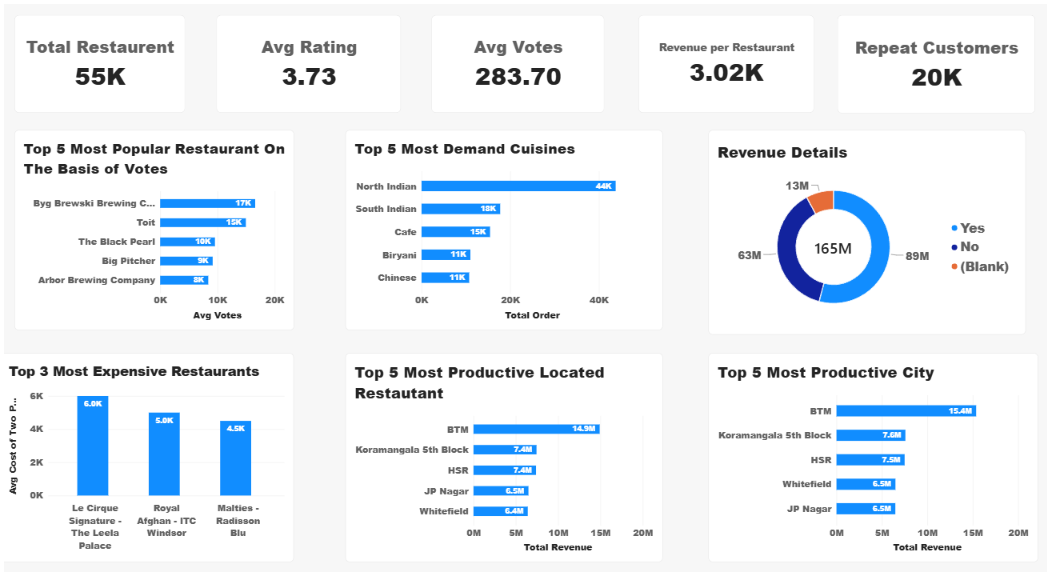

What the dashboard file says about the page in this screenshot:
{"tool":"powerbi","page":{"name":"Restaurants Analysis Dashboard","canvas":[1920,1080],"ordinal":1},"visuals":[{"type":"clusteredColumnChart","title":"Top 3 Most Expensive Restaurants","fields":{"Category":["Restaurants.name"],"Y":["Restaurants.Avg Cost of Two People"]},"box":[2.1,660.7,533.1,378.7],"z":1},{"type":"cardVisual","fields":{"Data":["Orders.Total Restaurent"]},"box":[29,48.9,309.5,177.3],"z":2},{"type":"cardVisual","fields":{"Data":["Customers.Avg Rating"]},"box":[394.5,48.9,334.8,177.3],"z":3},{"type":"cardVisual","fields":{"Data":["Customers.Avg Votes"]},"box":[783.6,48.9,313.1,177.3],"z":4},{"type":"cardVisual","fields":{"Data":["Customers.Revenue per Restaurant"]},"box":[1158.2,48.9,318.5,177.3],"z":5},{"type":"clusteredBarChart","title":"Top 5 Most Demand Cuisines","fields":{"Category":["Restaurants.primary Cuisines"],"Y":["CountNonNull(Orders.OrderID)"]},"box":[627.8,257.3,574.3,362.3],"z":7},{"type":"donutChart","title":"Revenue Details","fields":{"Category":["Restaurants.Online Order"],"Y":["Orders.Total Revenue"]},"box":[1284.4,257.3,574.3,370.5],"z":8},{"type":"barChart","title":"Top 5 Most Productive Located Restautant","fields":{"Category":["Restaurants.location"],"Y":["Orders.Total Revenue"]},"box":[627.8,660.7,574.3,378.7],"z":9},{"type":"clusteredBarChart","title":"Top 5 Most Productive City","fields":{"Category":["Customers.City"],"Y":["Orders.Total Revenue"]},"box":[1284.4,660.7,596.9,378.7],"z":10},{"type":"cardVisual","fields":{"Data":["Customers.Repeat Customers"]},"box":[1518.3,48.9,358,178],"z":11},{"type":"clusteredBarChart","title":"Top 5 Most Popular Restaurant On The Basis of Votes","fields":{"Category":["Restaurants.name"],"Y":["Customers.Avg Votes"]},"box":[28.8,257.3,506.3,362.3],"z":12}]}

Visuals, with their boxes in screenshot pixels (x1, y1, x2, y2), scaled from the page's 1920x1080 canvas onto the 1051x576 screenshot:
"Top 3 Most Expensive Restaurants" clusteredColumnChart: <region>1, 352, 293, 554</region>
cardVisual - Orders.Total Restaurent: <region>16, 26, 185, 121</region>
cardVisual - Customers.Avg Rating: <region>216, 26, 399, 121</region>
cardVisual - Customers.Avg Votes: <region>429, 26, 600, 121</region>
cardVisual - Customers.Revenue per Restaurant: <region>634, 26, 808, 121</region>
"Top 5 Most Demand Cuisines" clusteredBarChart: <region>344, 137, 658, 330</region>
"Revenue Details" donutChart: <region>703, 137, 1017, 335</region>
"Top 5 Most Productive Located Restautant" barChart: <region>344, 352, 658, 554</region>
"Top 5 Most Productive City" clusteredBarChart: <region>703, 352, 1030, 554</region>
cardVisual - Customers.Repeat Customers: <region>831, 26, 1027, 121</region>
"Top 5 Most Popular Restaurant On The Basis of Votes" clusteredBarChart: <region>16, 137, 293, 330</region>
